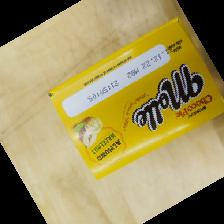Molle: (44, 16, 223, 182)
